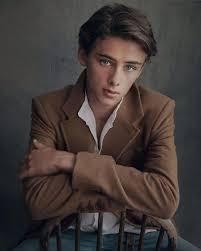Persons: (75, 0, 158, 110)
